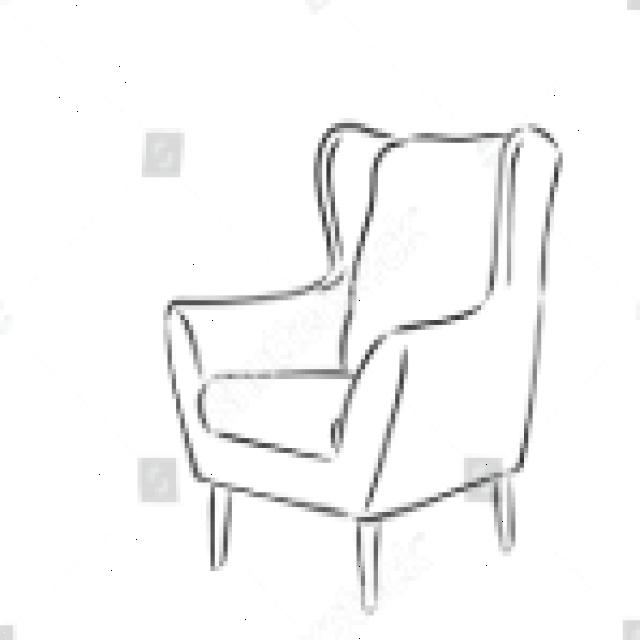Armrest: (336, 305, 538, 516), (163, 278, 350, 482)
Leg_Structure: (205, 459, 524, 615)
Seat: (201, 369, 361, 459)
Wing_Flange: (480, 124, 564, 311), (310, 117, 403, 279)
